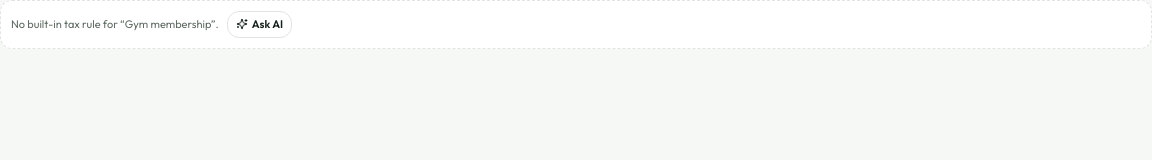
Test: TaxTreatmentHint › shows the error when the AI cannot answer
Click the button "Ask AI" at coordinates (259, 24), box x1=227 y1=11 x2=292 y2=38
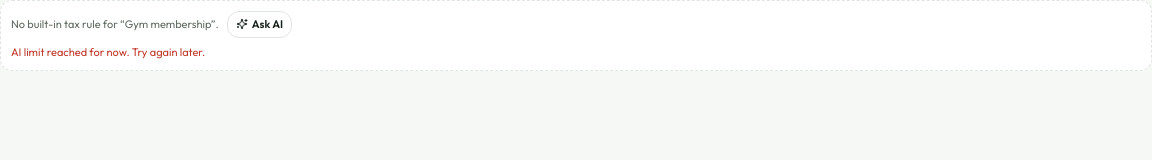
expect the text "AI limit reached for now. Try again later." is shown: met, box x1=11 y1=44 x2=205 y2=58
